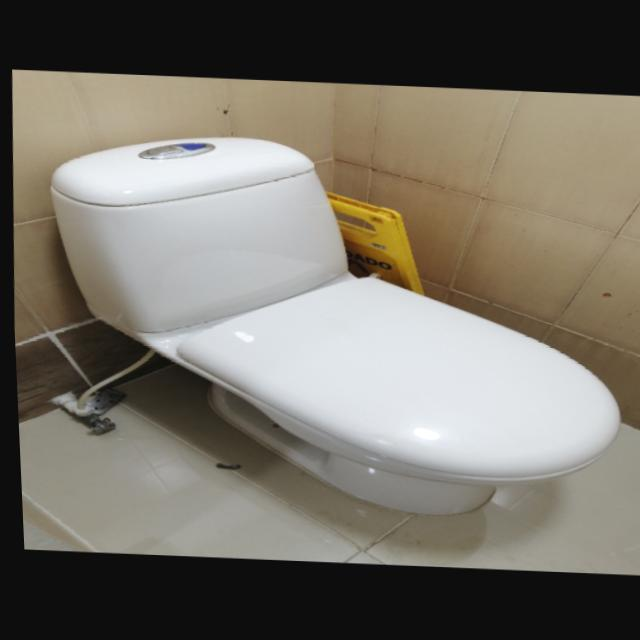toilet: (33, 128, 630, 522)
